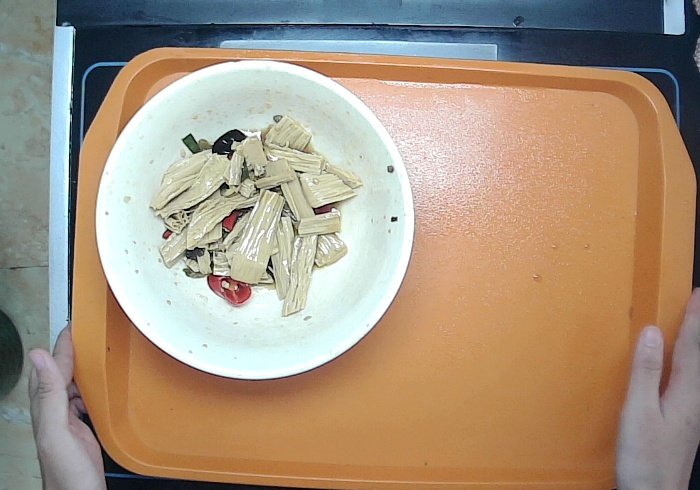ZNLD-Da_Tang_Wan: (92, 58, 417, 381)
